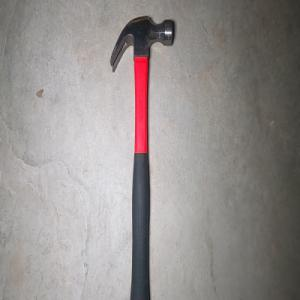Hammer: (108, 14, 174, 300)
